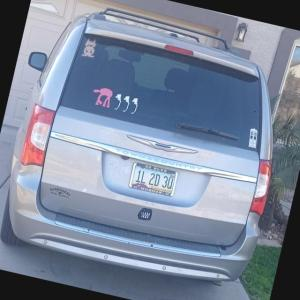Plate: (128, 162, 179, 197)
